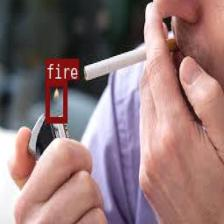fire: (46, 80, 66, 121)
